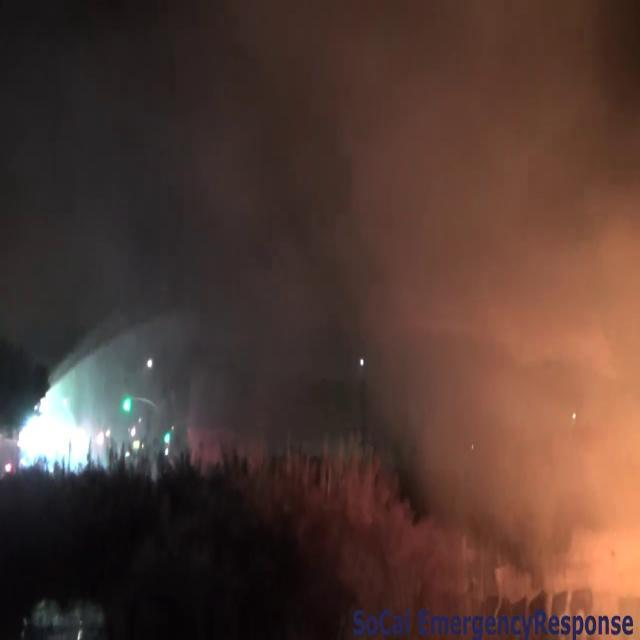Smoke: (168, 0, 640, 536), (405, 4, 640, 620)
